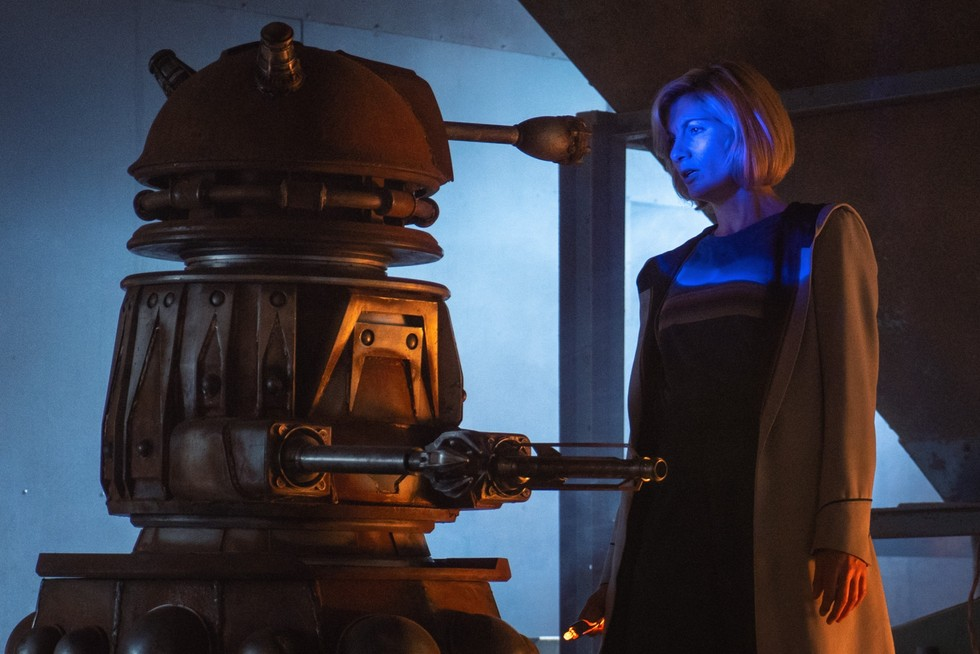dalek: (39, 0, 534, 563)
